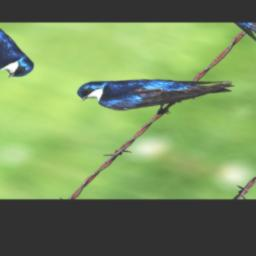Swallow: (69, 46, 240, 135)
